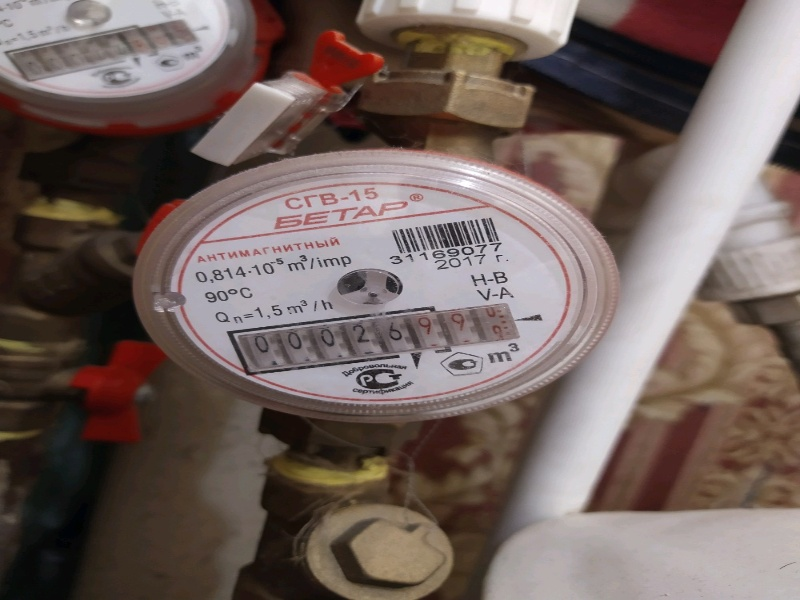meter: (228, 316, 514, 352)
